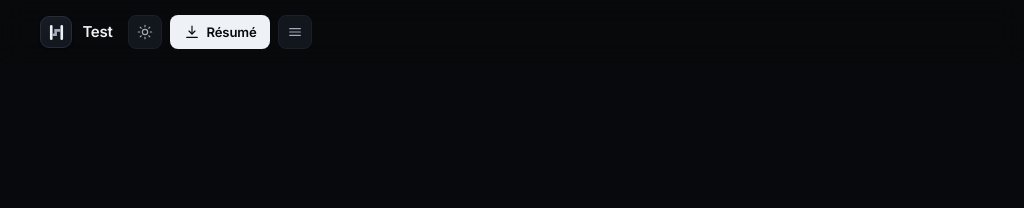
Test case: SiteHeader › closes the mobile menu after a link is clicked
The width and height of the screenshot is (1024, 208).
Step 1. Click the button named "open navigation menu" → x=295, y=32, box [278, 15, 312, 49]
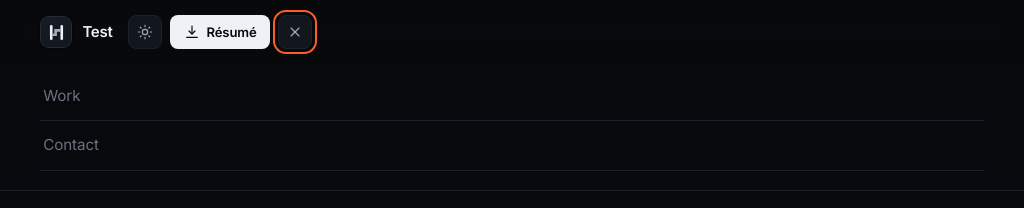
Step 2. Click the link "Work" → x=62, y=96, box [40, 72, 984, 121]
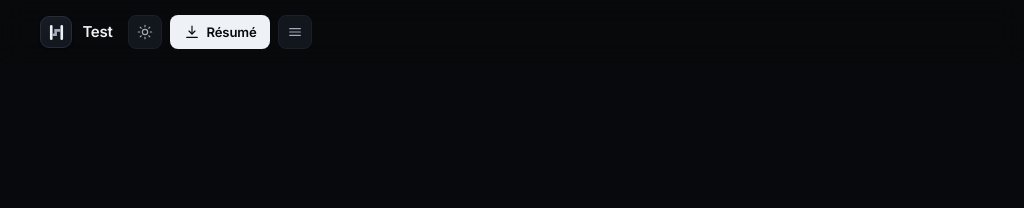
Expected: the button named "open navigation menu" is collapsed, [278, 15, 312, 49]
